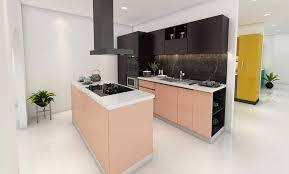light: (116, 4, 136, 15), (258, 11, 278, 20), (270, 30, 285, 34), (267, 25, 279, 28)
table: (61, 78, 158, 174)
